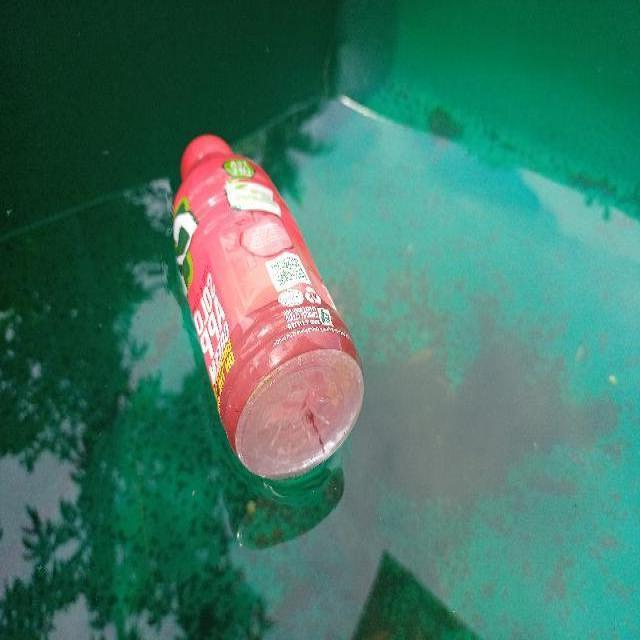Bottle: (161, 124, 373, 492)
